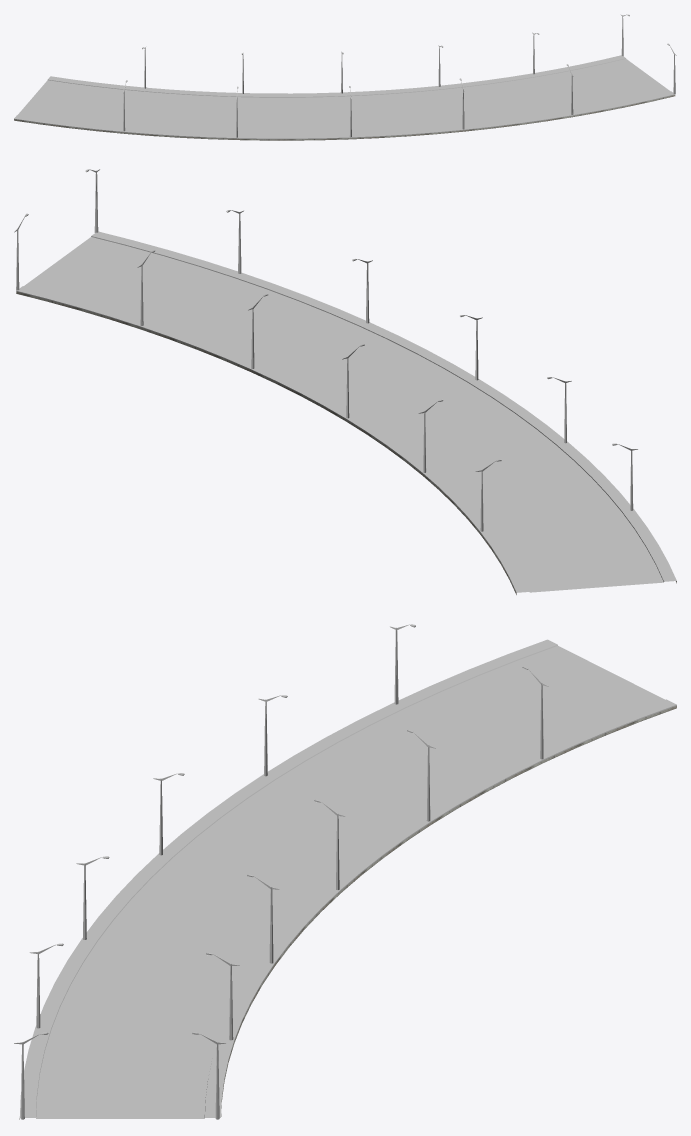
The model's file is Big_Road_50.FBX.
3 views of the same model, one above another, from view 1: azimuth 30°, elevation 25°; view 2: azimuth 150°, elevation 25°; view 3: azimuth 270°, elevation 25° (orthographic). The views are drawn at different scales.
Parts seen in each view (by area): view 1: Big_Road_50, city_light009; view 2: Big_Road_50, city_light009; view 3: Big_Road_50, city_light009.
Part boxes in pixels (x1,y1,x2,y2): Big_Road_50: (14,55,675,140); city_light009: (123,14,676,137); Big_Road_50: (16,231,676,594); city_light009: (14,169,637,531); Big_Road_50: (19,639,676,1119); city_light009: (14,624,548,1119).
Bounding box in the file's own units: 12780 × 1104 × 7472.
